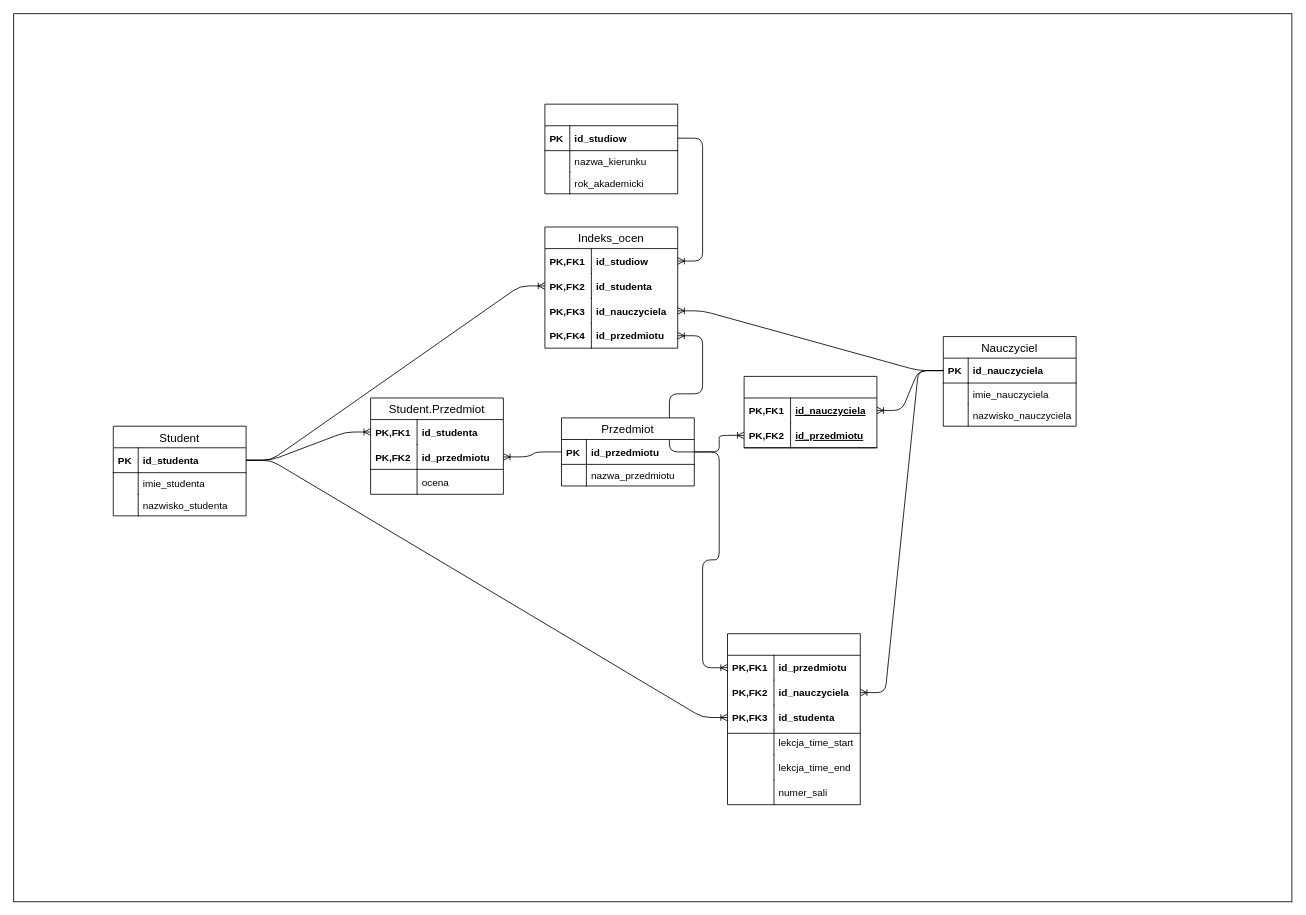
Some shapes in this 1306 by 915 pixel diagram are drawn without their labels. Here are the shapes that lost their labels. From the top down, the box of each, then its label:
(544, 103, 678, 194): Kierunek_studiow
(743, 376, 877, 448): Nauczyciel.Przedmiot
(727, 633, 860, 805): Plan_zajec
